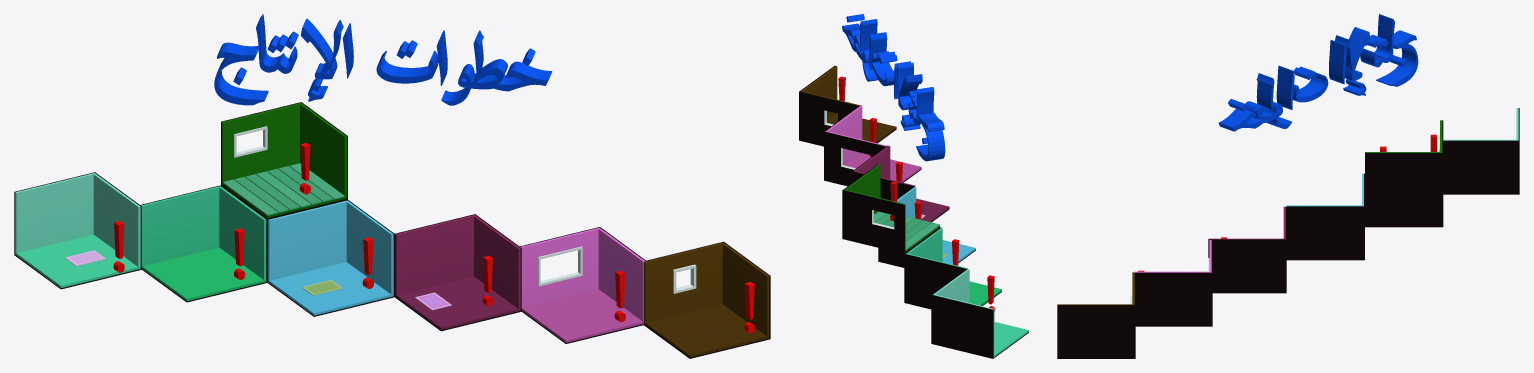
Rendered from Project Name.obj.
3 views of the same model, side by side, from view 1: azimuth 30°, elevation 25°; view 2: azimuth 150°, elevation 25°; view 3: azimuth 270°, elevation 25° (orthographic). The views are drawn at different scales.
Parts seen in each view (by area): view 1: 027_Walls_Colors_0, 026_Walls2_Colors_0, 030_Walls_Colors_0, 028_Walls_Colors_0, 032_Walls_Colors_0, 034_Walls1_Colors_0, 018_Walls2_Colors_0, 000_3D_Text_-_ﺝ, 004_3D_Text_-_ﻹ, 006_3D_Text_-_ﺕ, 009_3D_Text_-_ﻄ, 010_3D_Text_-_ﺧ (+1 smaller); view 2: 032_Walls_Colors_0, 018_Walls2_Colors_0, 027_Walls_Colors_0, 034_Walls1_Colors_0, 026_Walls2_Colors_0, 030_Walls_Colors_0, 028_Walls_Colors_0, 000_3D_Text_-_ﺝ, 004_3D_Text_-_ﻹ, 006_3D_Text_-_ﺕ, 009_3D_Text_-_ﻄ, 001_3D_Text_-_ﺎ (+6 smaller); view 3: 028_Walls_Colors_0, 034_Walls1_Colors_0, 026_Walls2_Colors_0, 018_Walls2_Colors_0, 032_Walls_Colors_0, 030_Walls_Colors_0, 027_Walls_Colors_0, 000_3D_Text_-_ﺝ, 004_3D_Text_-_ﻹ, 009_3D_Text_-_ﻄ, 006_3D_Text_-_ﺕ, 010_3D_Text_-_ﺧ (+3 smaller).
Boxes of the visible parts, box(x1,y1,x2,y2) form: 027_Walls_Colors_0: box(140, 185, 267, 302); 026_Walls2_Colors_0: box(644, 241, 770, 358); 030_Walls_Colors_0: box(394, 214, 521, 331); 028_Walls_Colors_0: box(267, 199, 394, 316); 032_Walls_Colors_0: box(14, 172, 141, 289); 034_Walls1_Colors_0: box(520, 227, 646, 343); 018_Walls2_Colors_0: box(221, 102, 347, 219); 000_3D_Text_-_ﺝ: box(214, 42, 268, 105); 004_3D_Text_-_ﻹ: box(301, 18, 343, 101); 006_3D_Text_-_ﺕ: box(376, 40, 438, 83); 009_3D_Text_-_ﻄ: box(467, 30, 510, 91); 010_3D_Text_-_ﺧ: box(504, 48, 552, 90); 032_Walls_Colors_0: box(931, 269, 1028, 358); 018_Walls2_Colors_0: box(842, 164, 939, 253); 027_Walls_Colors_0: box(904, 228, 1001, 309); 034_Walls1_Colors_0: box(824, 105, 921, 186); 026_Walls2_Colors_0: box(799, 65, 896, 146); 030_Walls_Colors_0: box(852, 145, 949, 222); 028_Walls_Colors_0: box(878, 187, 975, 267); 000_3D_Text_-_ﺝ: box(916, 112, 945, 161); 004_3D_Text_-_ﻹ: box(896, 62, 922, 130); 006_3D_Text_-_ﺕ: box(871, 51, 897, 86); 009_3D_Text_-_ﻄ: box(851, 19, 877, 60); 001_3D_Text_-_ﺎ: box(914, 87, 934, 124); 028_Walls_Colors_0: box(1286, 173, 1364, 260); 034_Walls1_Colors_0: box(1134, 240, 1212, 326); 026_Walls2_Colors_0: box(1057, 272, 1135, 358); 018_Walls2_Colors_0: box(1365, 120, 1443, 206); 032_Walls_Colors_0: box(1443, 108, 1519, 194); 030_Walls_Colors_0: box(1208, 206, 1286, 293); 027_Walls_Colors_0: box(1365, 206, 1443, 227); 000_3D_Text_-_ﺝ: box(1376, 30, 1418, 86); 004_3D_Text_-_ﻹ: box(1334, 27, 1370, 95); 009_3D_Text_-_ﻄ: box(1245, 73, 1277, 128); 006_3D_Text_-_ﺕ: box(1293, 66, 1328, 102); 010_3D_Text_-_ﺧ: box(1218, 99, 1257, 131).
Bounding box in the file's own units: 21780 × 11016 × 21551.
9 materials, 1 textured.
